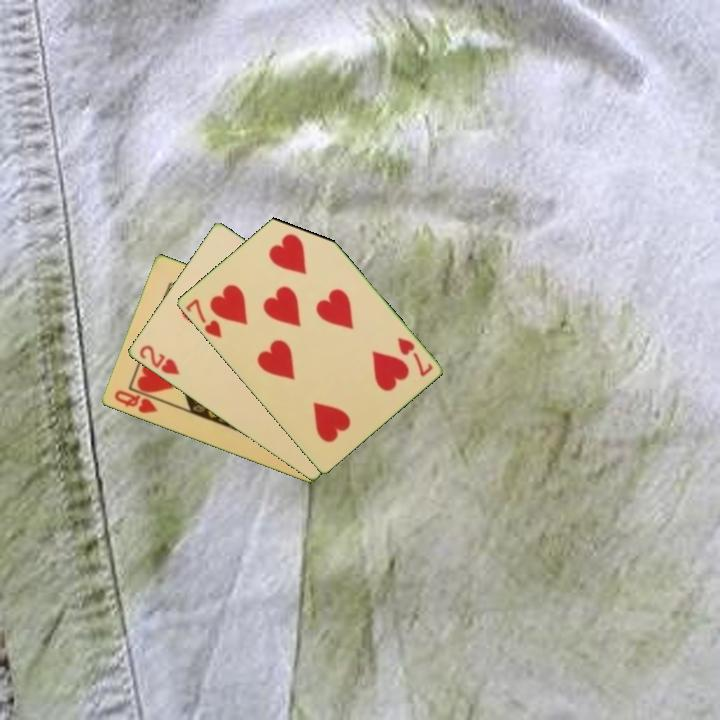2h: (135, 341, 183, 378)
7h: (182, 295, 224, 341), (393, 334, 435, 380)
Qh: (110, 387, 160, 416)
